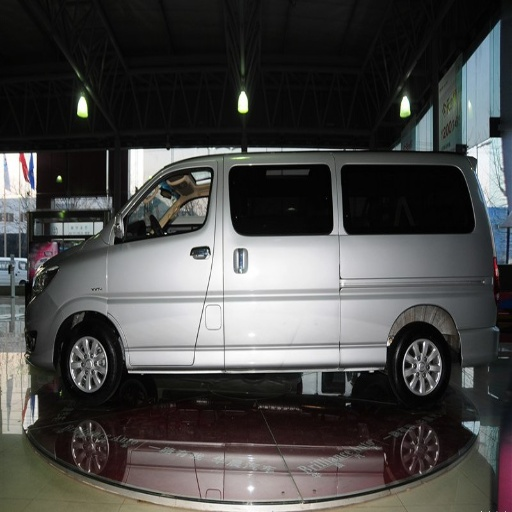back_right_door: (246, 164, 318, 238)
trunk: (210, 243, 484, 367)
